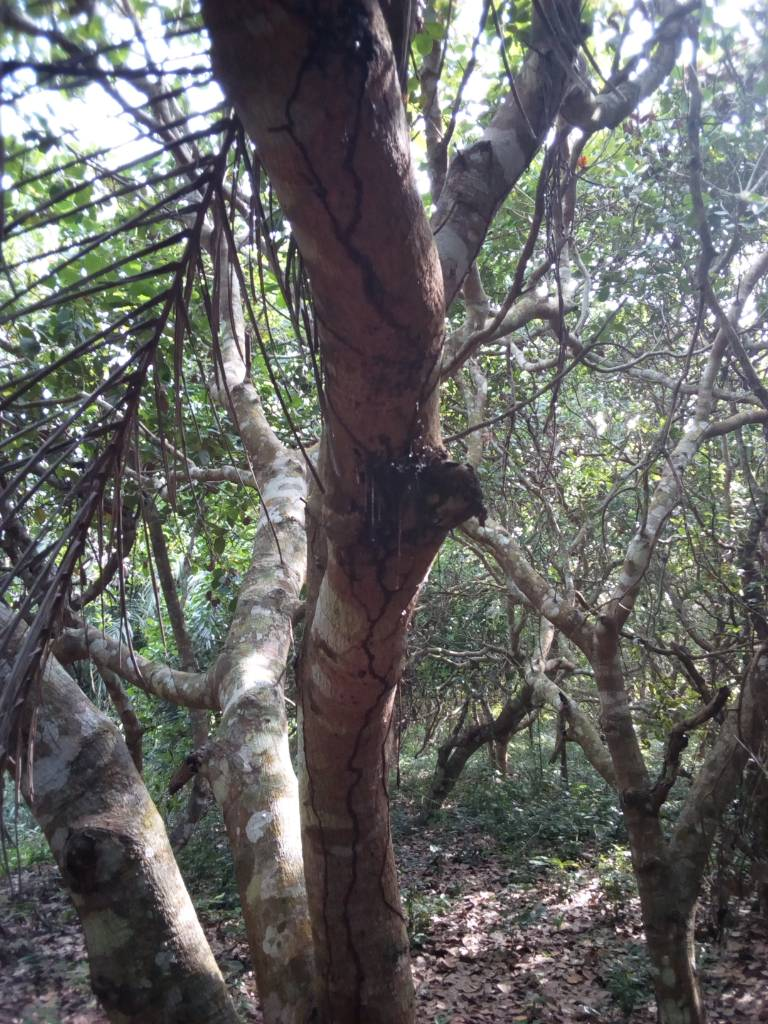Termites: (293, 13, 447, 361)
